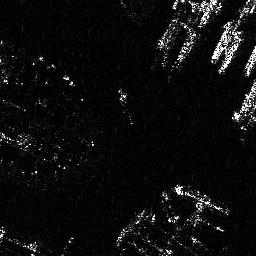ship: (218, 29, 244, 73), (209, 19, 235, 63)
